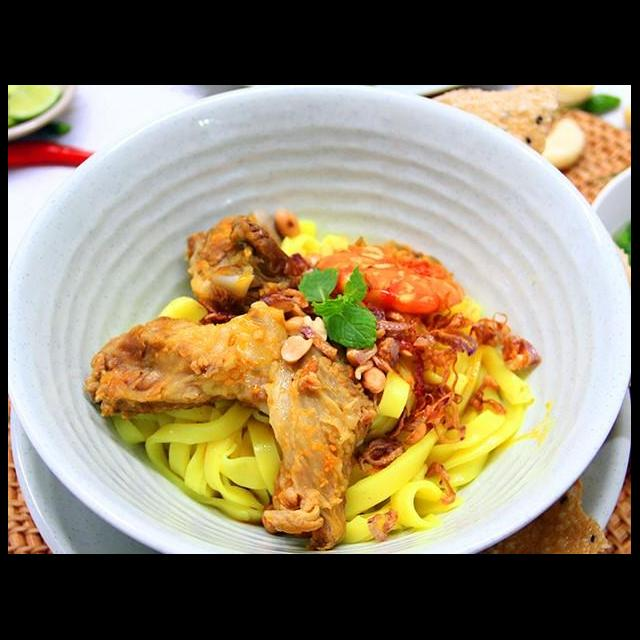mi: (338, 292, 538, 548), (102, 396, 286, 526)
thit heo: (258, 318, 380, 554), (84, 298, 296, 427), (178, 210, 320, 332)
tom: (308, 236, 468, 318)
